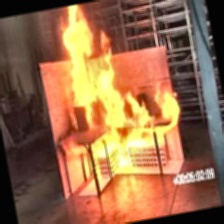fire: (28, 0, 195, 204)
